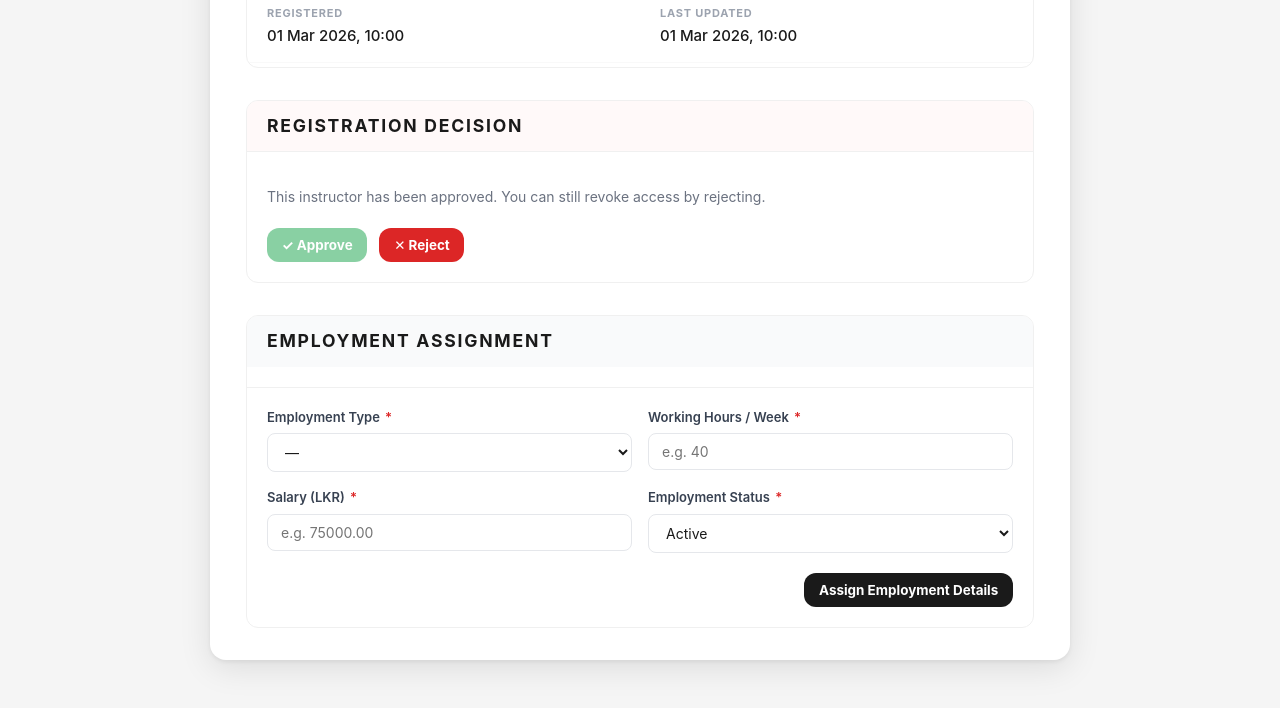
Instructor - Detail Page › after approved: validates employment form and submits successfully
This screenshot has width=1280, height=708.
(page scrolled)
Expected: the heading "Employment Assignment" is shown, [247,316,1033,367]
Click the button "Assign Employment Details" at (909, 590), box [804,573,1013,607]
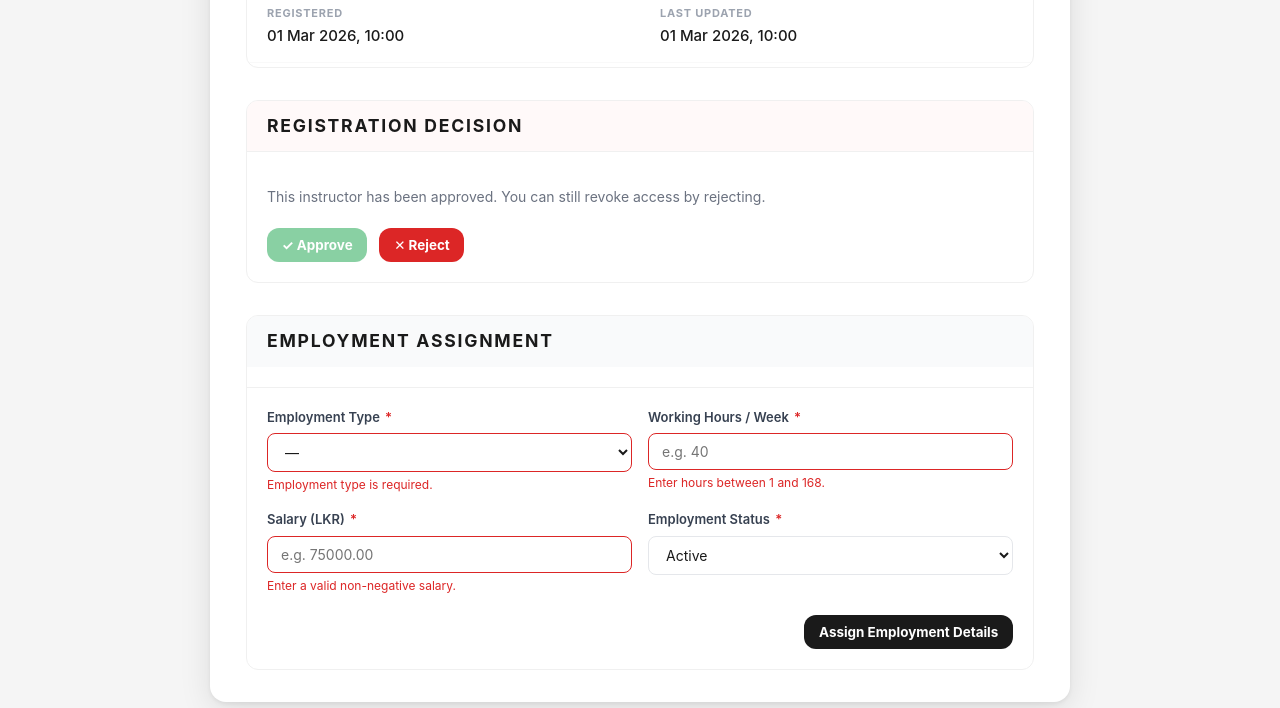
Expected: the text "Employment type is required." is shown, [267,477,433,492]
Expected: the text "Enter hours between 1 and 168." is shown, [648,475,825,490]
Expected: the text "Enter a valid non-negative salary." is shown, [267,578,456,593]
Select "Full Time" in the 1st dropdown named "employmentType" at (450, 453), box [267,433,632,472]
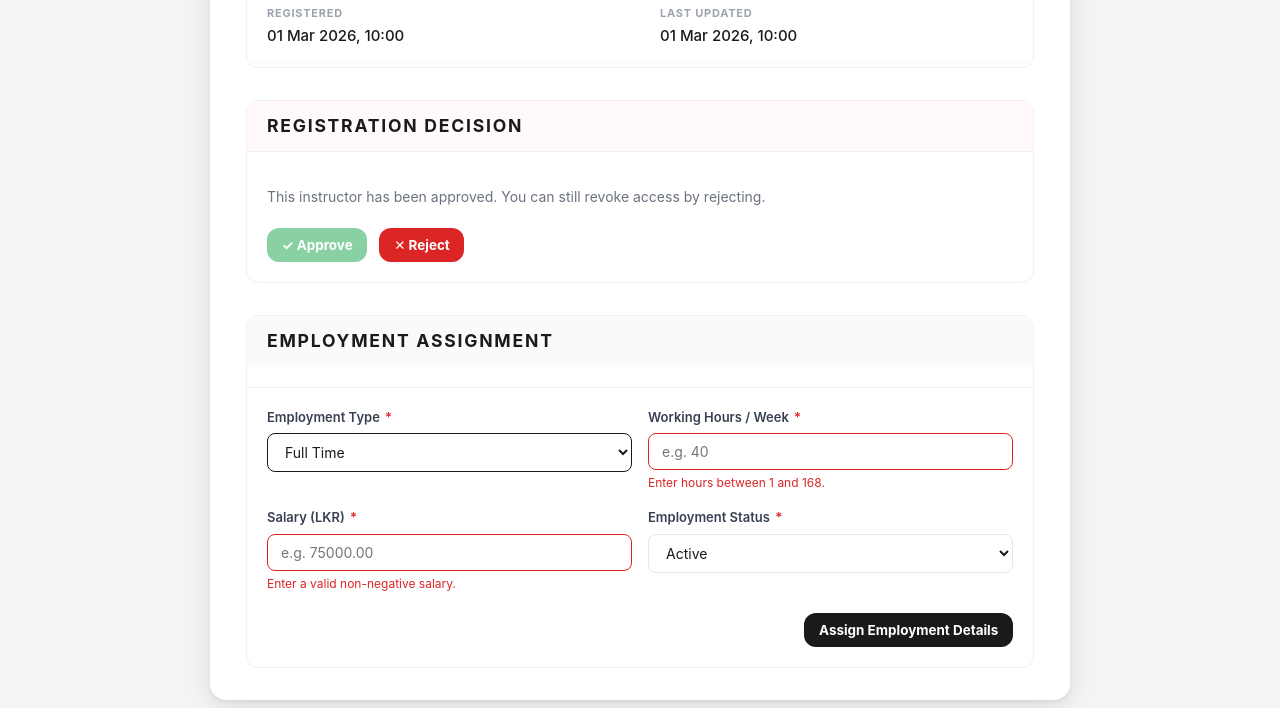
Type "40" into the number field named "workingHoursPerWeek" at (831, 452), box [648,433,1013,470]
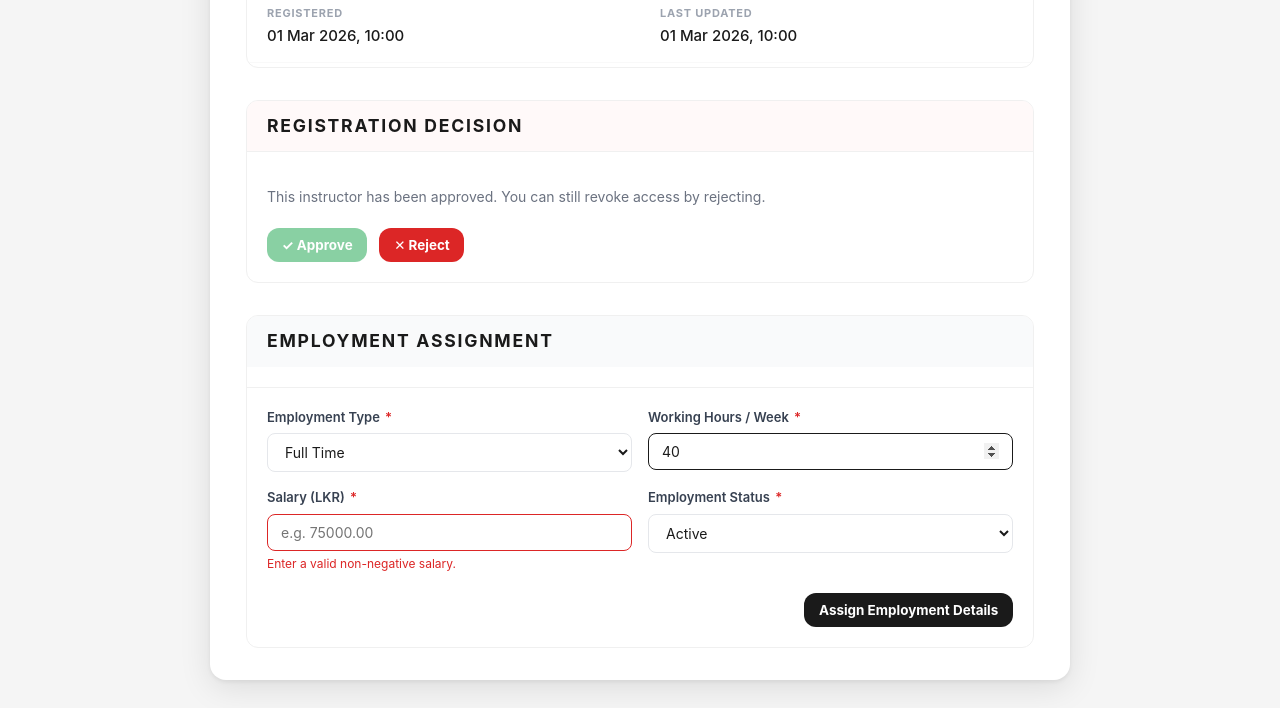
Type "75000" into the number field named "salary" at (450, 533), box [267,514,632,551]
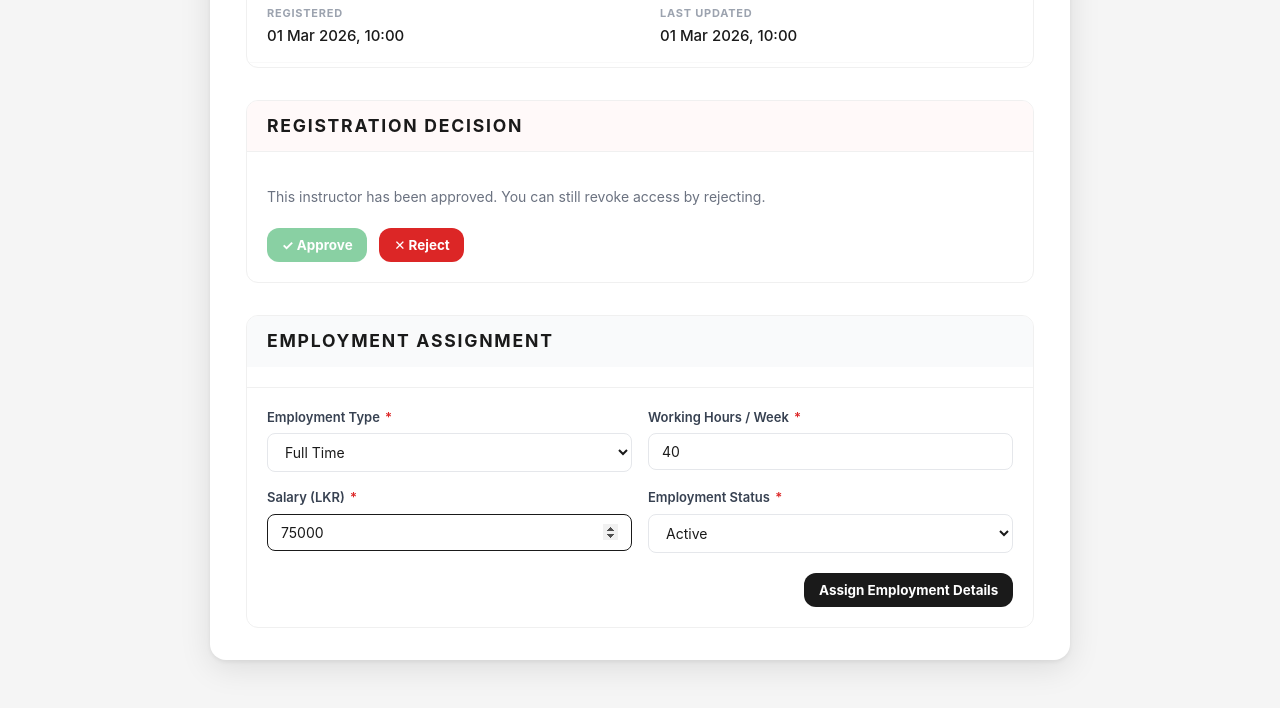
Select "Active" in the dropdown named "isActive" below "Employment Status" at (831, 534), box [648,514,1013,553]
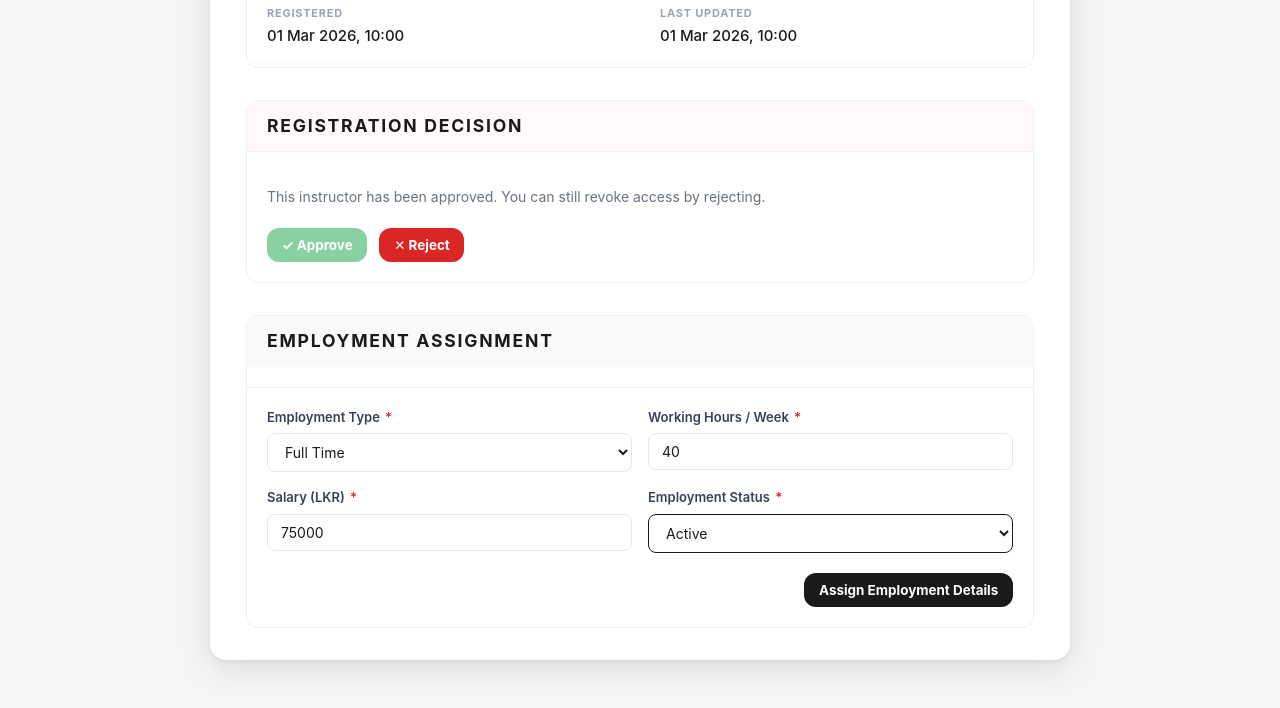
Click the button "Assign Employment Details" at (909, 590), box [804,573,1013,607]
(page scrolled)
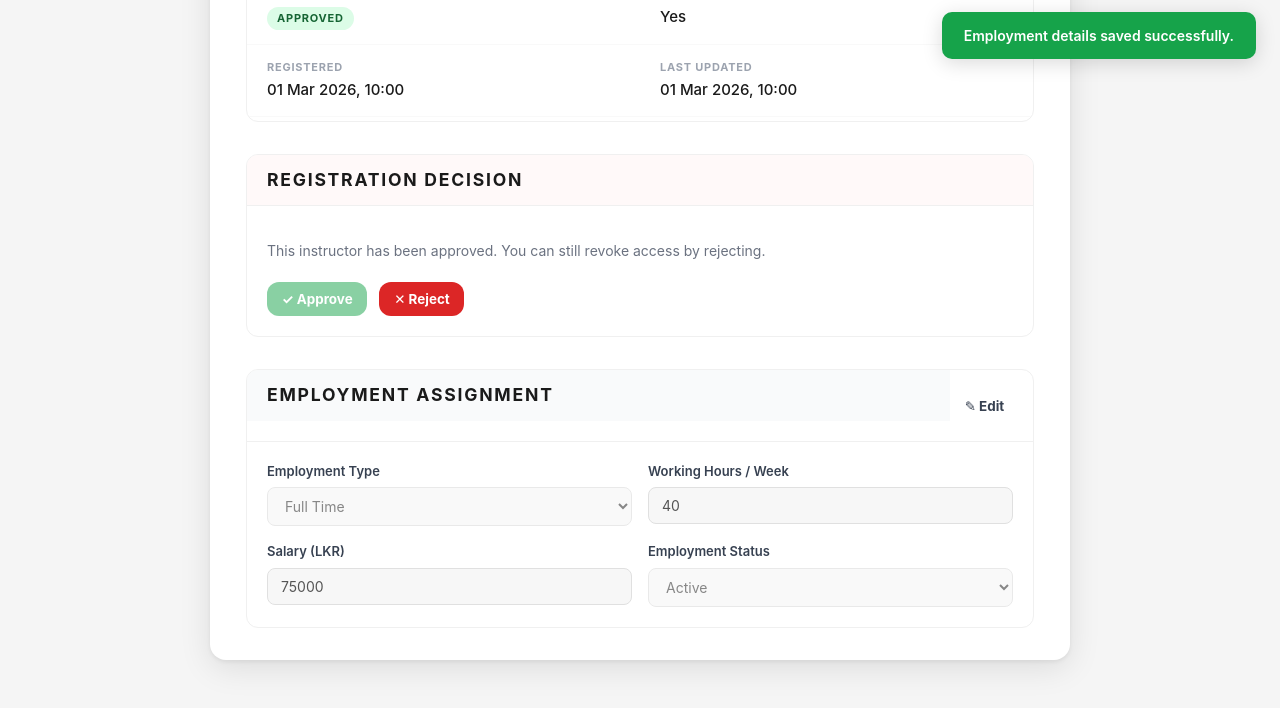
Expected: the text "Employment details saved successfully." is shown, [942,12,1256,59]
